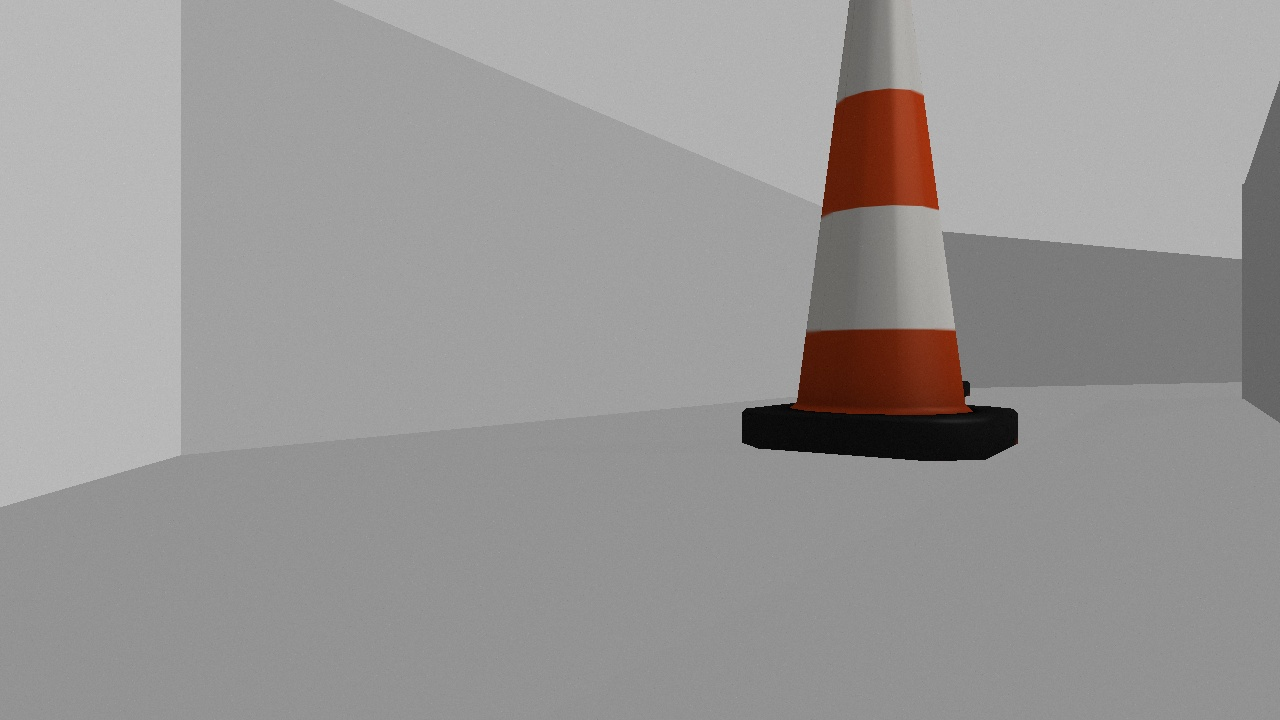barricade: (741, 1, 1020, 462)
